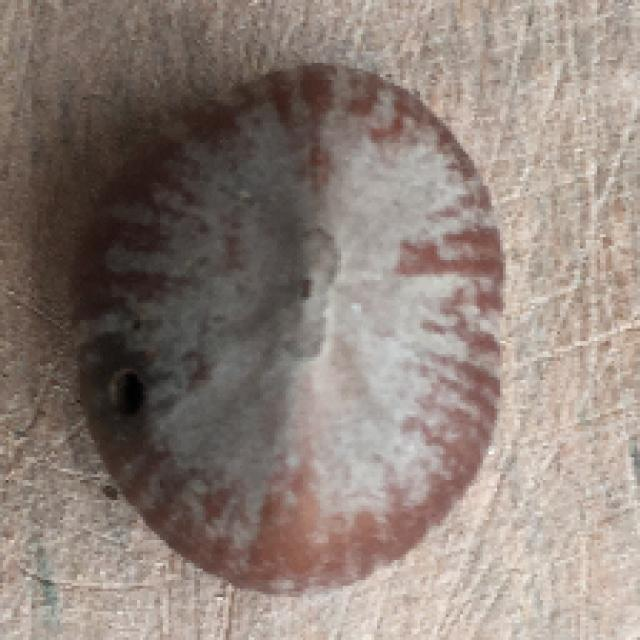DamagedHazelnut: (75, 64, 501, 597)
